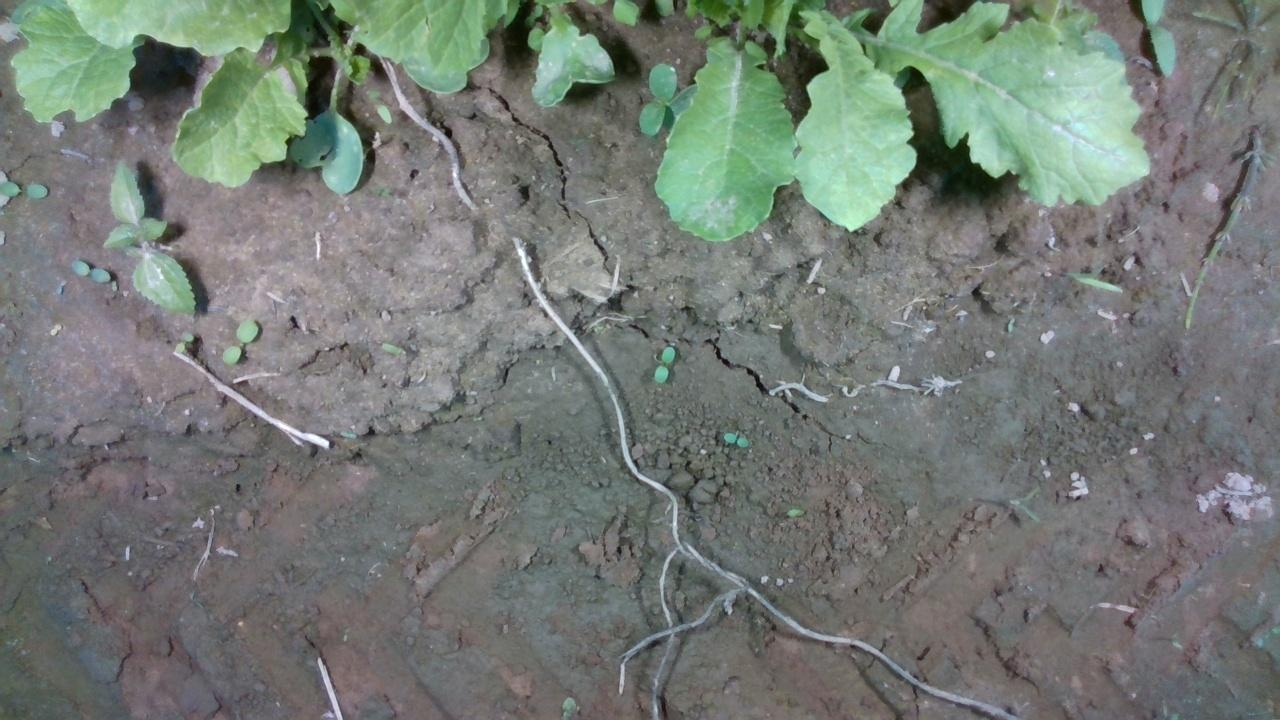weed: (69, 257, 111, 283)
